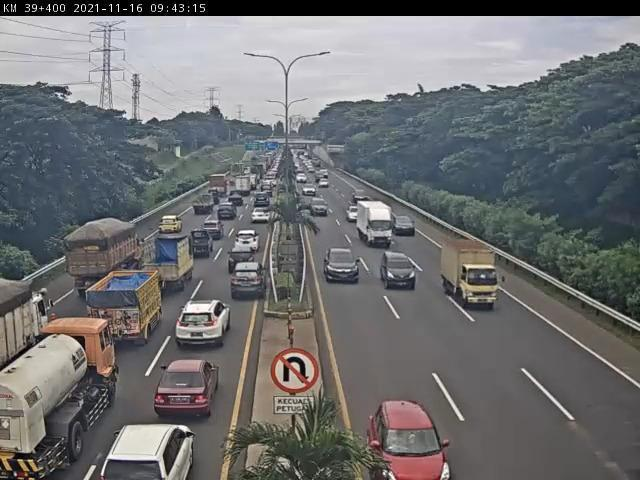car: (367, 400, 454, 480), (104, 425, 195, 480), (156, 361, 219, 419), (177, 300, 234, 351), (380, 252, 418, 291), (324, 246, 360, 284), (230, 268, 265, 307), (229, 252, 255, 278), (390, 215, 416, 236), (191, 197, 213, 218), (236, 231, 259, 251), (157, 218, 181, 237), (203, 222, 224, 242), (252, 207, 271, 224), (217, 205, 237, 221), (311, 199, 328, 216), (255, 195, 272, 211), (228, 193, 244, 207), (261, 182, 274, 197), (206, 192, 218, 207), (303, 183, 316, 195), (349, 207, 359, 221), (319, 179, 327, 187)
truck: (2, 317, 120, 479), (63, 220, 141, 298), (89, 273, 163, 347), (2, 279, 49, 373), (442, 240, 501, 311), (139, 235, 193, 293), (356, 202, 395, 249), (188, 232, 215, 259), (210, 176, 229, 199), (237, 177, 254, 198)
